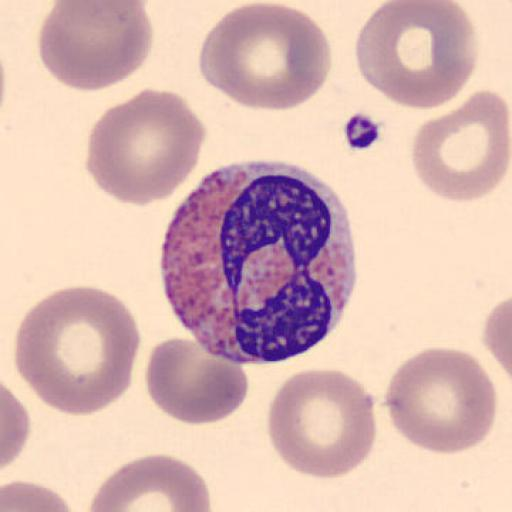Platelet: (340, 107, 390, 153)
RBC: (13, 284, 142, 418), (198, 0, 332, 114), (85, 86, 207, 206), (352, 0, 479, 111), (382, 346, 498, 456), (266, 366, 377, 480), (409, 88, 511, 203), (36, 1, 154, 92), (144, 335, 250, 425), (88, 453, 212, 512), (482, 293, 512, 388), (2, 380, 32, 471), (2, 478, 76, 512)
WBC: (160, 158, 358, 365)
